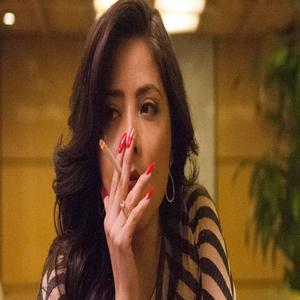cigarette: (96, 139, 124, 175)
